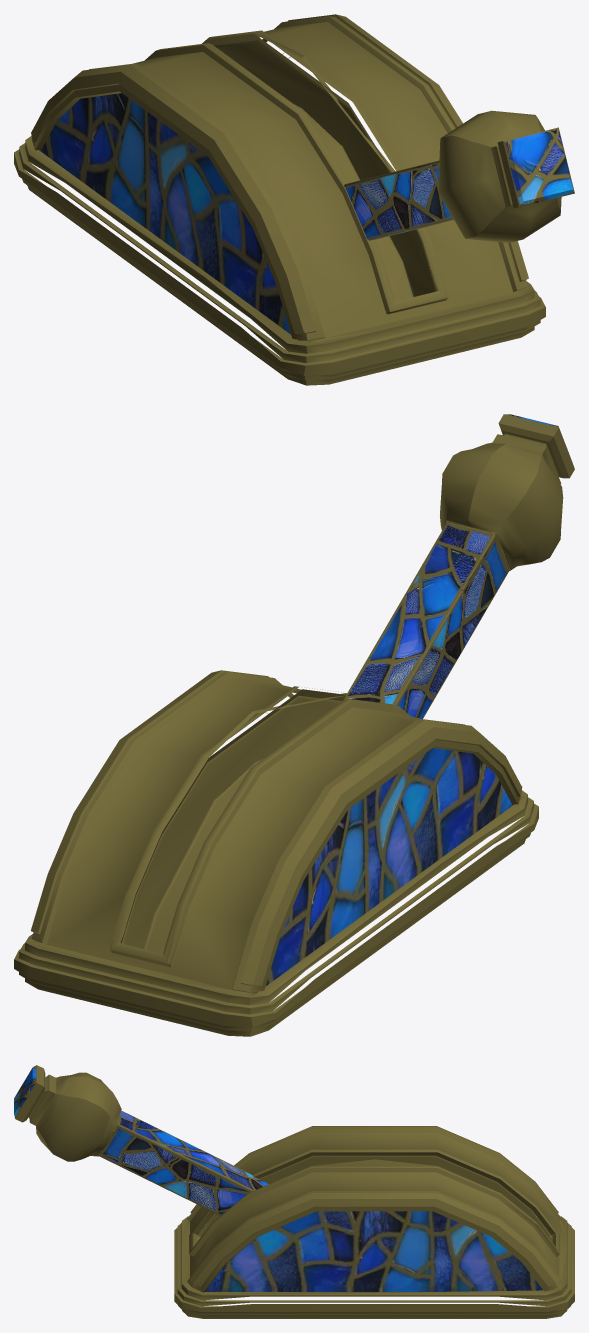
File: leverWholeP2_lowPoly_lowPoly.glb
3 renders of one model, top to bottom at view 1: azimuth 30°, elevation 25°; view 2: azimuth 150°, elevation 25°; view 3: azimuth 270°, elevation 25°, orthographic. The views are drawn at different scales.
Visible parts, largest first — view 1: Mesh_1.002; view 2: Mesh_1.002; view 3: Mesh_1.002.
Boxes of the visible parts, bbox=[...] form: Mesh_1.002: bbox=[14, 14, 574, 385]; Mesh_1.002: bbox=[14, 414, 574, 1036]; Mesh_1.002: bbox=[14, 1065, 574, 1318].
Bounding box in the file's own units: 0.4998 × 0.5667 × 1.4.
2 materials, 2 textured.
